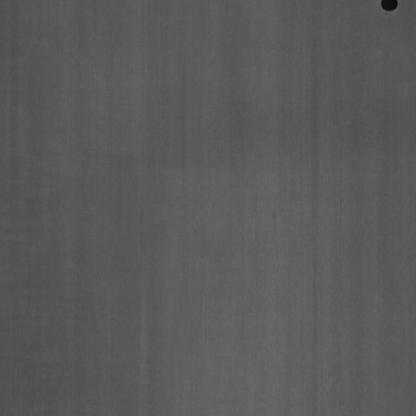punching_hole: (378, 0, 402, 16)
